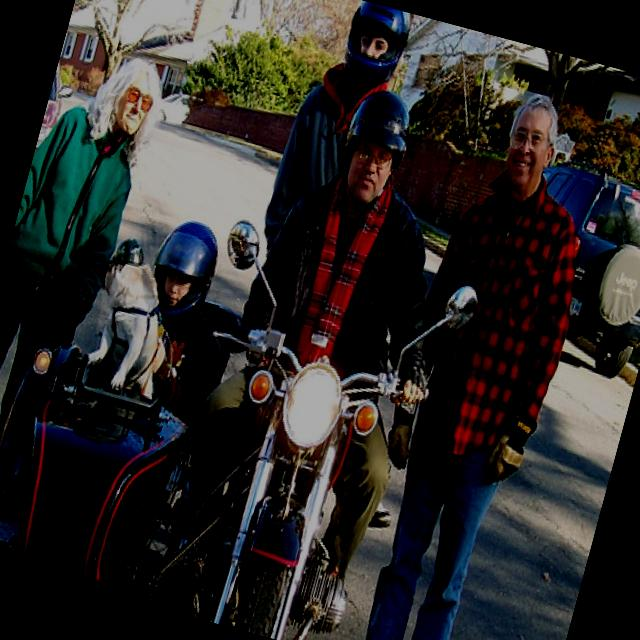Vehicle: (0, 169, 483, 640), (496, 153, 640, 383), (26, 38, 84, 189), (156, 88, 194, 127)
